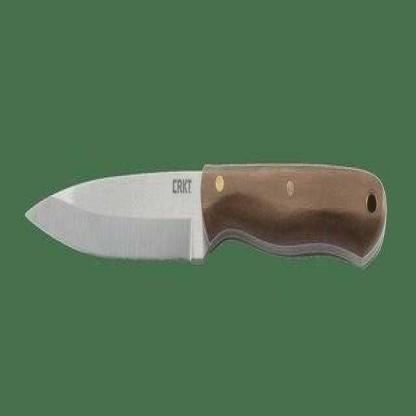Knife: (19, 154, 393, 284)
